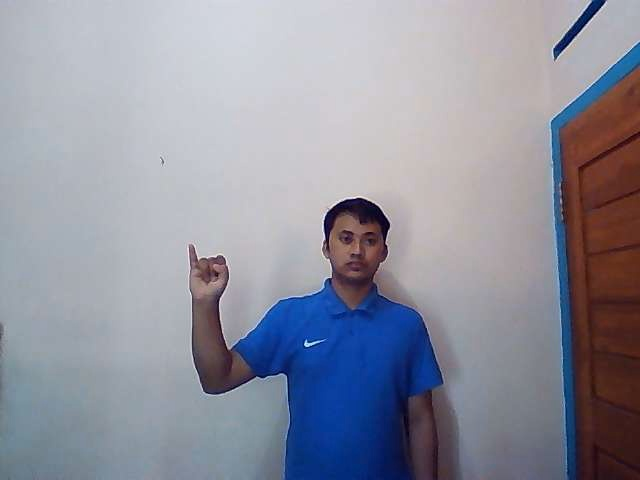I: (187, 243, 229, 300)
